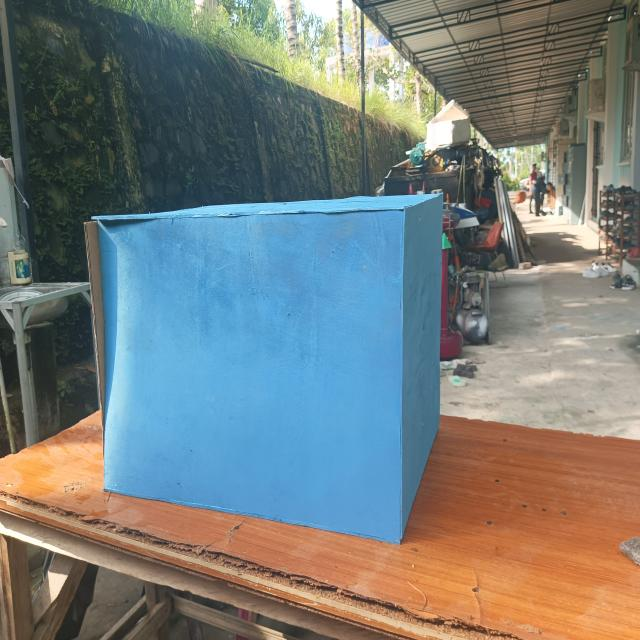blue_box: (80, 186, 448, 549)
